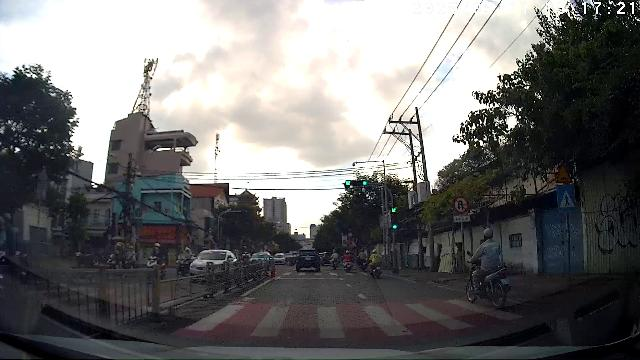124b-cam-oto-quay-dau-xe: (454, 196, 468, 214)
423a-duong-nguoi-di-bo-sang-ngang-1: (556, 185, 576, 211)
